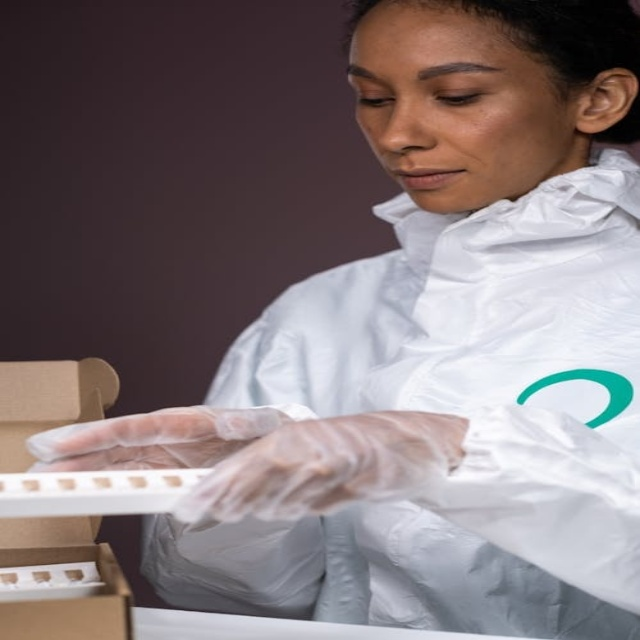Guantes: (166, 400, 475, 525), (20, 387, 328, 474)
Sin_gafas: (343, 60, 543, 115)
Sin_mascara: (381, 154, 500, 194)
